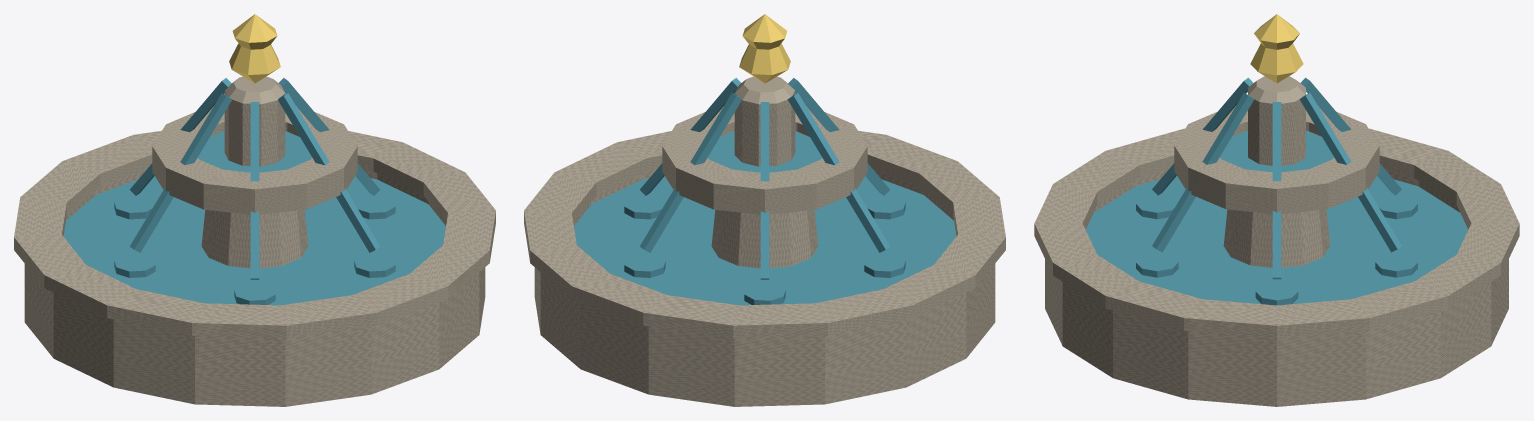
The model's file is fantasy-mmo-city-and-townsfolk-plaza-fountain-9b482127__32770.glb.
The picture shows the model from 3 angles, left to right: view 1: azimuth 30°, elevation 25°; view 2: azimuth 150°, elevation 25°; view 3: azimuth 270°, elevation 25°; orthographic projection.
Parts seen in each view (by area): view 1: plaza-fountain; view 2: plaza-fountain; view 3: plaza-fountain.
Boxes of the visible parts, x1,y1,x2,y2 form: plaza-fountain: (14, 14, 495, 406); plaza-fountain: (524, 14, 1005, 406); plaza-fountain: (1034, 14, 1519, 406).
Bounding box in the file's own units: 5.44 × 3.65 × 5.44.
3 materials, 1 textured.
